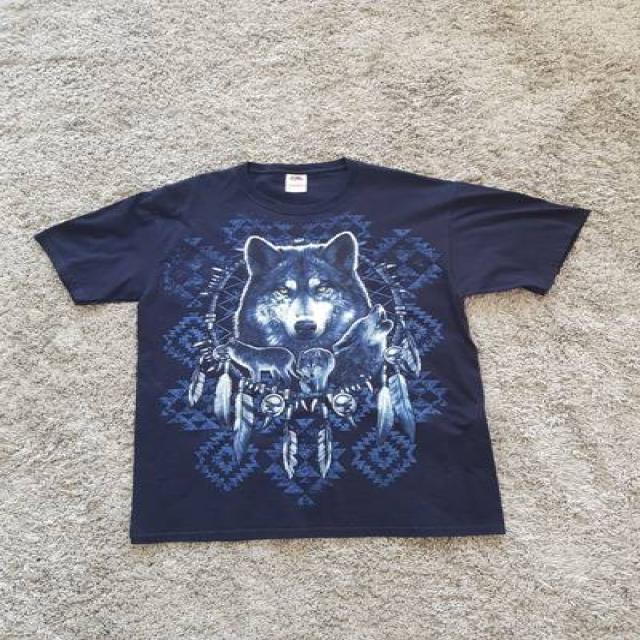shirt: (34, 158, 591, 546)
